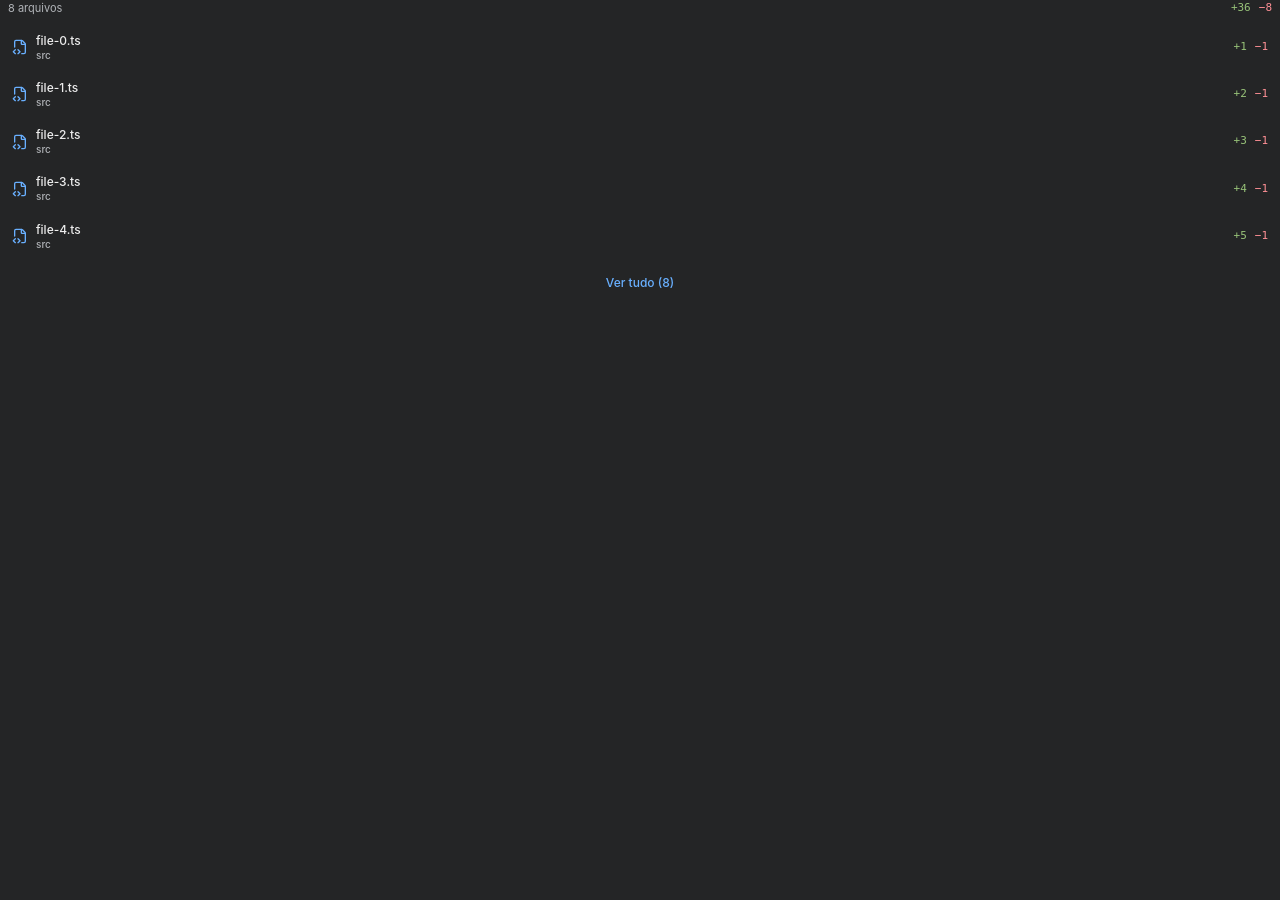
Test case: Changed file review › limits preview to five, shows totals and opens the clicked file in the diff dialog
Expected: the element named "36 linhas adicionadas, 8 linhas removidas" is shown, [1231,0,1272,16]
Expected: the text "file-6.ts" is not shown
Click the button with aria-label "Alterações em src/file-2.ts": point(58, 135) [0,119,1279,164]
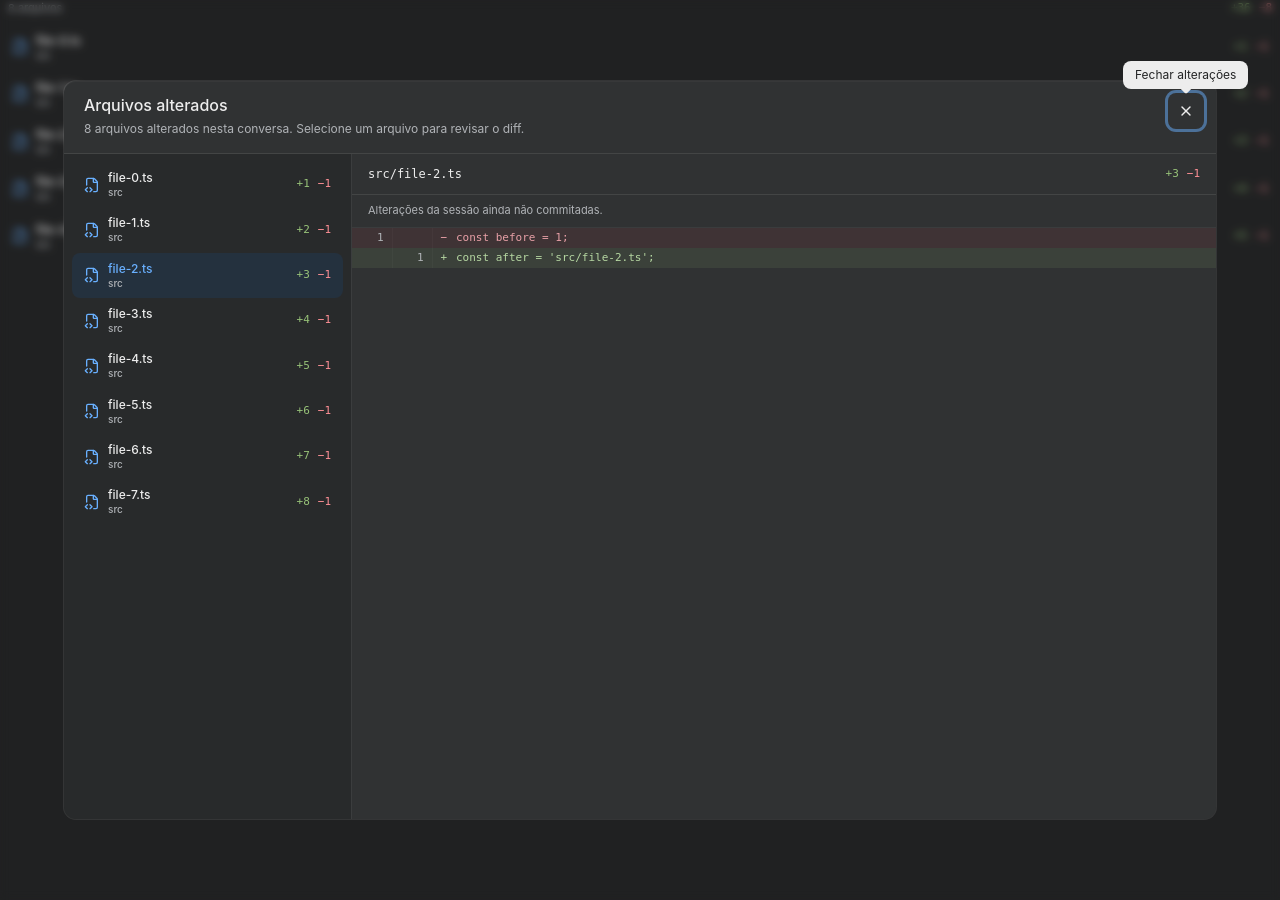
Now the number of buttons named "Alterações em" is 8
Now the text "const before = 1;" is shown, box [456,228,1216,248]
Now the text "const after = 'src/file-2.ts';" is shown, box [456,248,1216,268]
Click the button with aria-label "Alterações em src/file-7.ts": point(129, 495) [72,479,343,525]
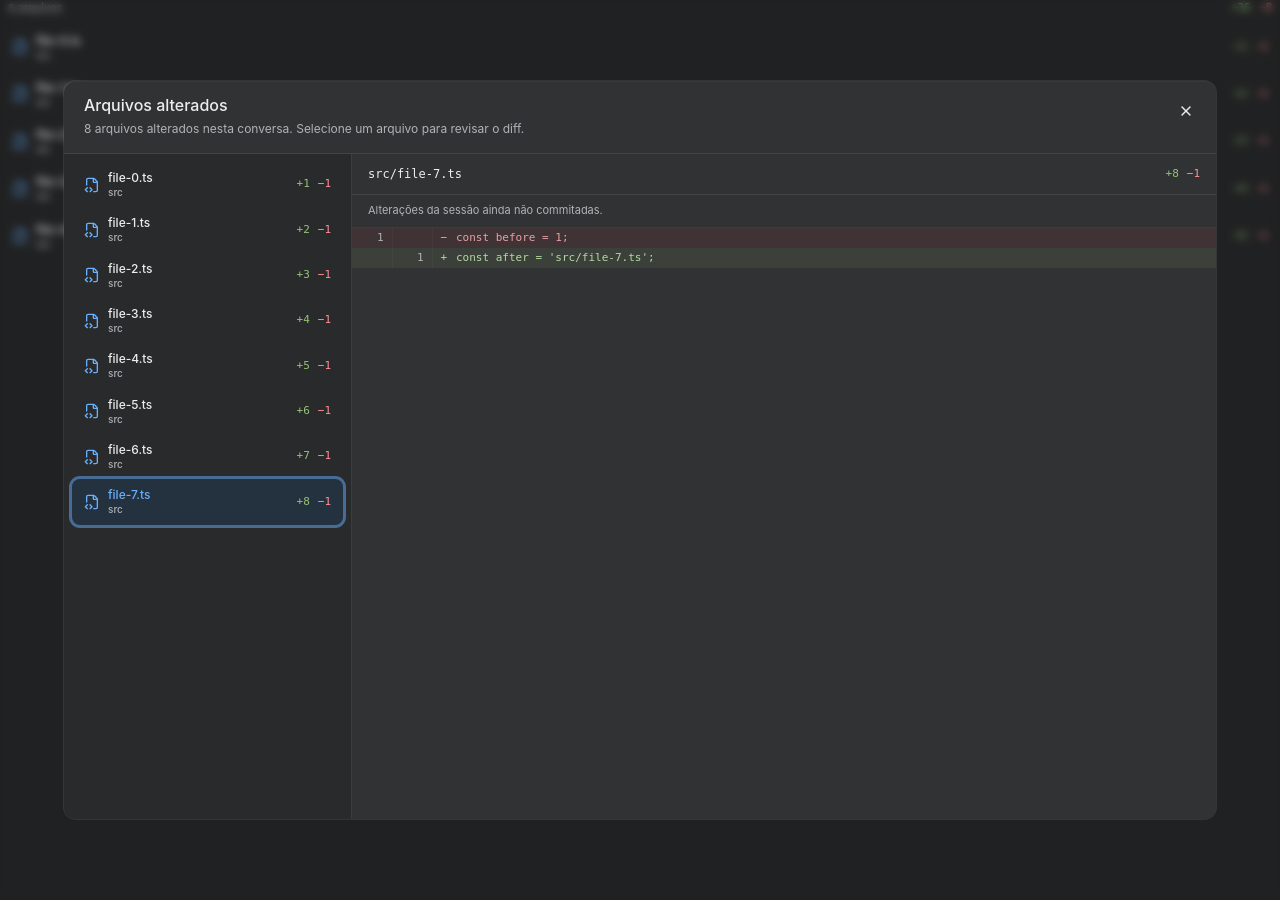
Now the text "const after = 'src/file-7.ts';" is shown, box [456,248,1216,268]
Click the button named "Fechar alterações": point(1186, 111) [1168,93,1204,129]
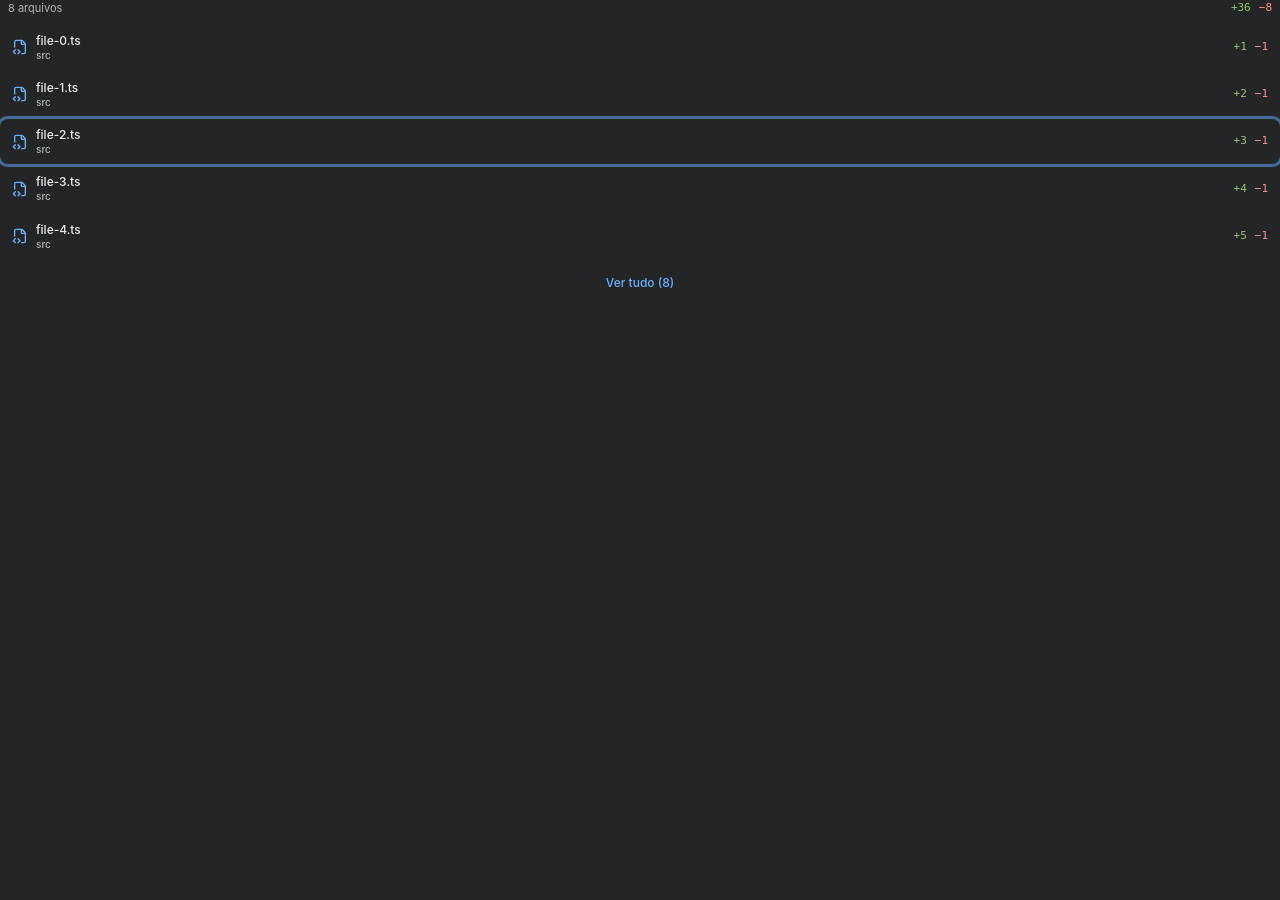
Click the button "Ver tudo (8)": point(640, 283) [0,267,1279,299]
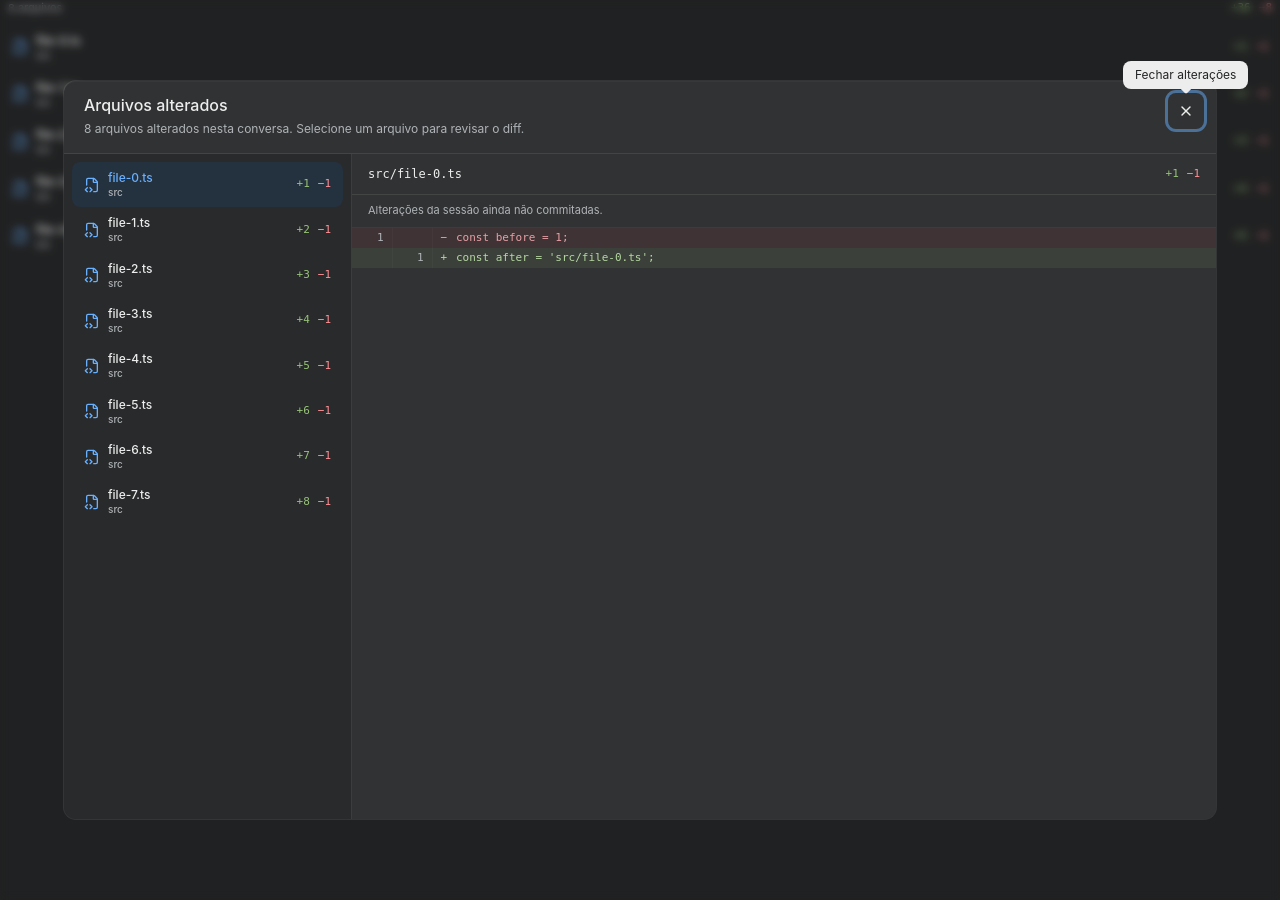
Now the text "const after = 'src/file-0.ts';" is shown, box [456,248,1216,268]
